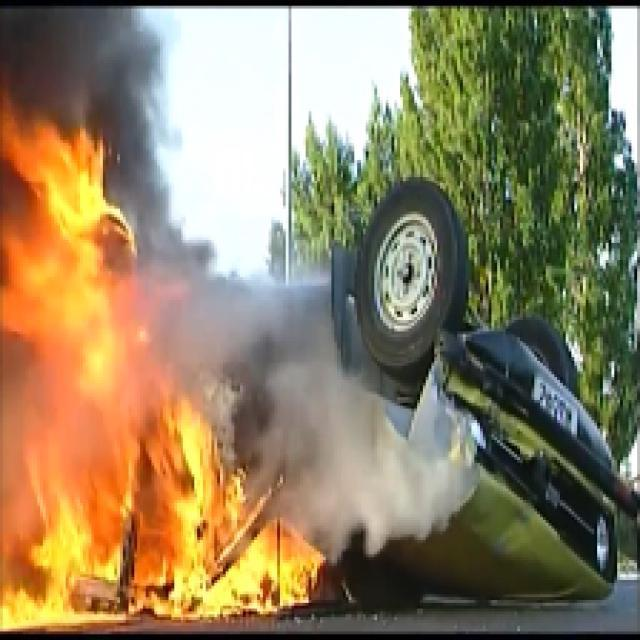Fire: (3, 119, 326, 632)
Smoke: (194, 262, 466, 554), (2, 3, 148, 123)
